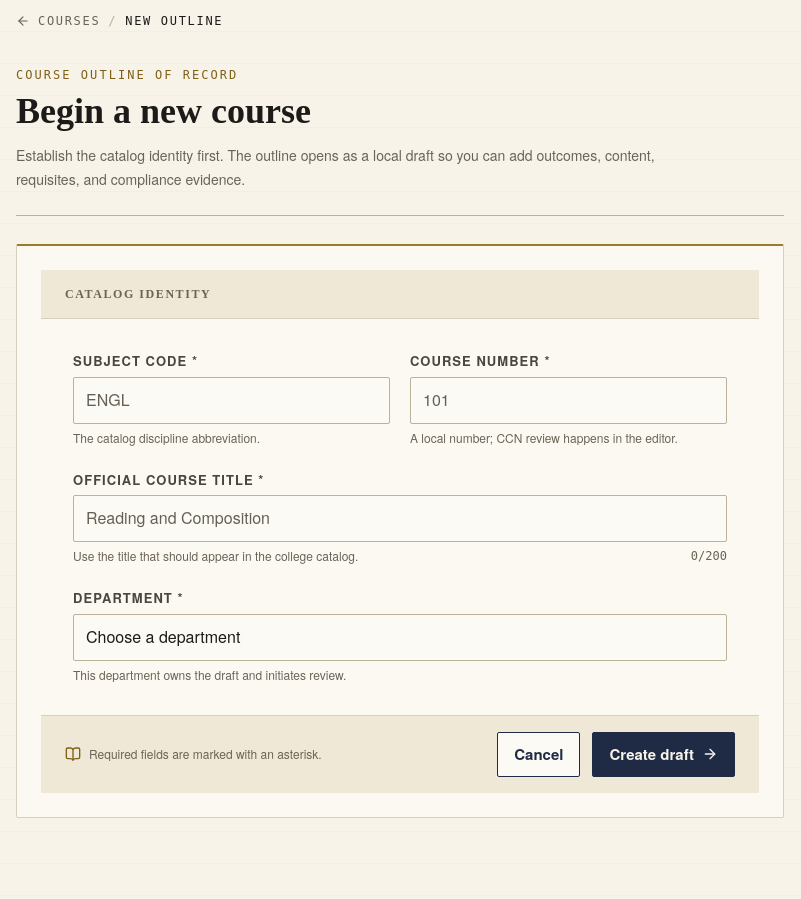
Scenario: CourseCreateForm › presents an accessible validation summary before repository creation
Click the button "Create draft".
click(664, 754)  # box [592,732,735,777]
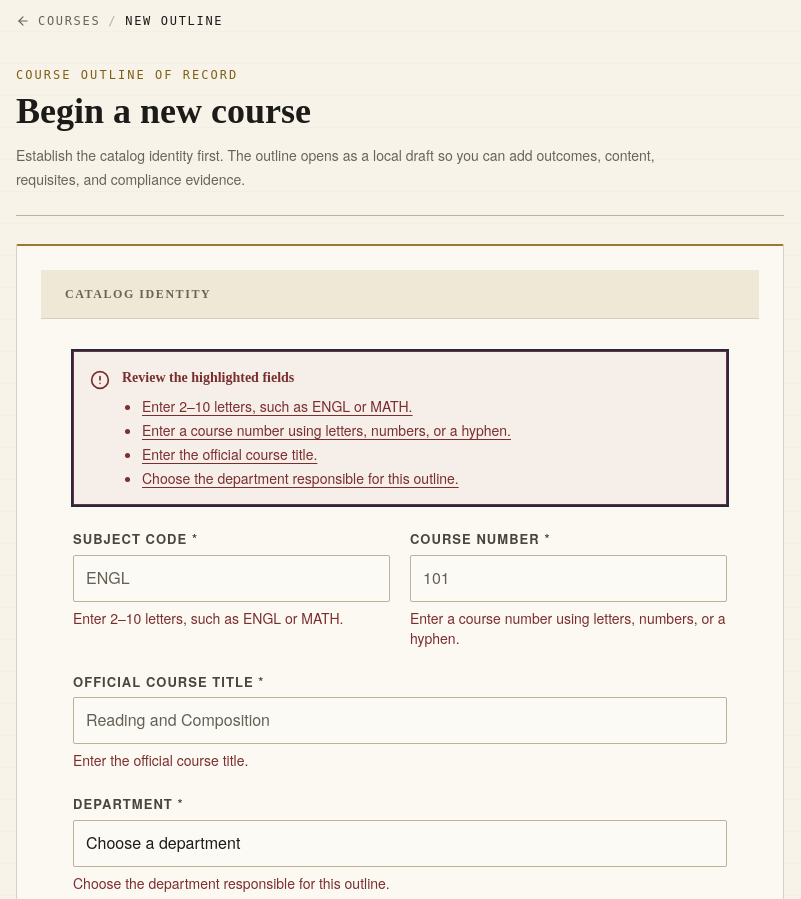
Expected: the message shows "Review the highlighted fields", [122,370,294,385]
Expected: the number of links "Enter 2–10 letters, such as ENGL or MATH." is 2, [142,396,412,416]; [73,608,390,628]
